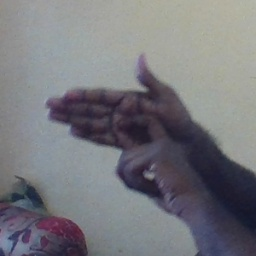R: (38, 50, 185, 192)
